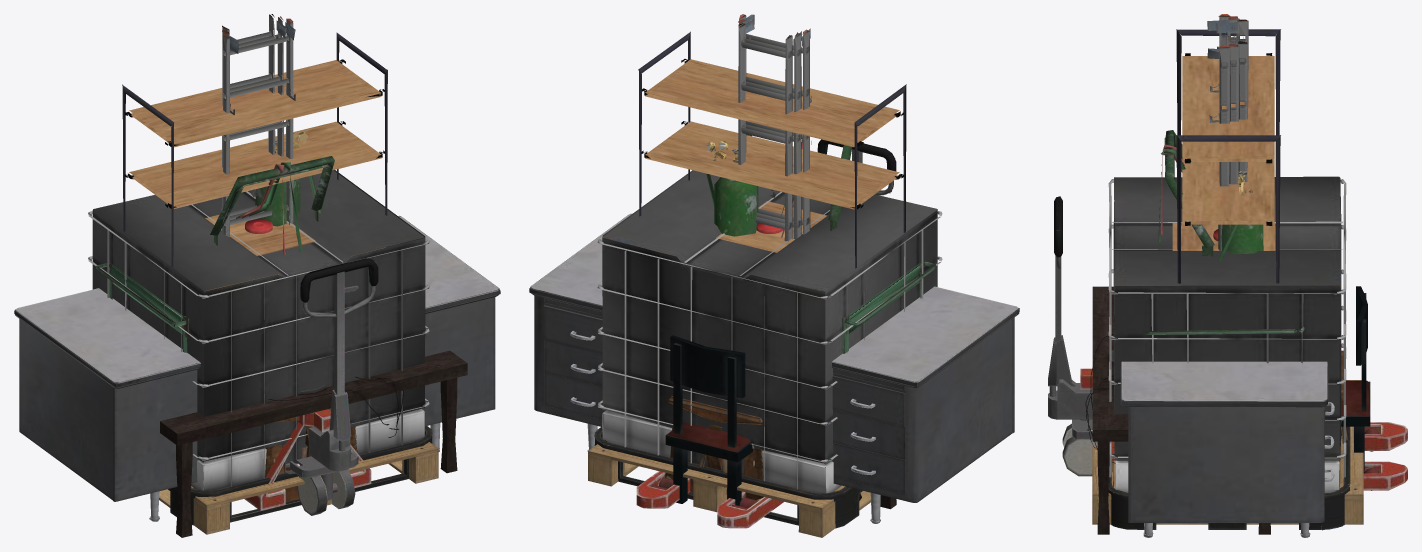
Rendered from warehouse.glb.
3 renders of one model, left to right at view 1: azimuth 30°, elevation 25°; view 2: azimuth 150°, elevation 25°; view 3: azimuth 270°, elevation 25°, orthographic.
Parts seen in each view (by area): view 1: ibc_tank, office_desk, drawer_cabinet, computer_desk, pallet_jack, ladder, welding_cart, pallet, tool_cart, long_crate; view 2: ibc_tank, office_desk, drawer_cabinet, computer_desk, ladder, pallet, pallet_jack, welding_cart, long_crate, tool_cart; view 3: ibc_tank, office_desk, drawer_cabinet, pallet_jack, computer_desk, ladder, welding_cart, pallet, tool_cart.
Part boxes in pixels (left/top/right/bottom): ibc_tank: left=88, top=170, right=432, bottom=525; office_desk: left=14, top=216, right=500, bottom=521; drawer_cabinet: left=122, top=32, right=387, bottom=291; computer_desk: left=160, top=275, right=467, bottom=537; pallet_jack: left=244, top=258, right=378, bottom=515; ladder: left=221, top=14, right=295, bottom=237; welding_cart: left=210, top=131, right=334, bottom=254; pallet: left=159, top=442, right=438, bottom=534; tool_cart: left=96, top=260, right=189, bottom=352; long_crate: left=265, top=403, right=357, bottom=501; ibc_tank: left=594, top=170, right=942, bottom=528; office_desk: left=529, top=213, right=1019, bottom=523; drawer_cabinet: left=638, top=31, right=906, bottom=282; computer_desk: left=665, top=335, right=896, bottom=509; ladder: left=738, top=14, right=811, bottom=241; pallet: left=588, top=444, right=870, bottom=537; pallet_jack: left=636, top=139, right=896, bottom=528; welding_cart: left=706, top=134, right=852, bottom=237; long_crate: left=665, top=396, right=763, bottom=500; tool_cart: left=842, top=259, right=936, bottom=500; ibc_tank: left=1108, top=176, right=1350, bottom=530; office_desk: left=1120, top=361, right=1334, bottom=537; drawer_cabinet: left=1172, top=29, right=1280, bottom=283; pallet_jack: left=1048, top=196, right=1407, bottom=490; computer_desk: left=1085, top=286, right=1370, bottom=534; ladder: left=1207, top=14, right=1248, bottom=250; welding_cart: left=1158, top=130, right=1263, bottom=261; pallet: left=1092, top=380, right=1363, bottom=524; tool_cart: left=1145, top=327, right=1304, bottom=334.
Bounding box in the file's own units: 2 × 2.13 × 1.59.
26 materials, 25 textured.
